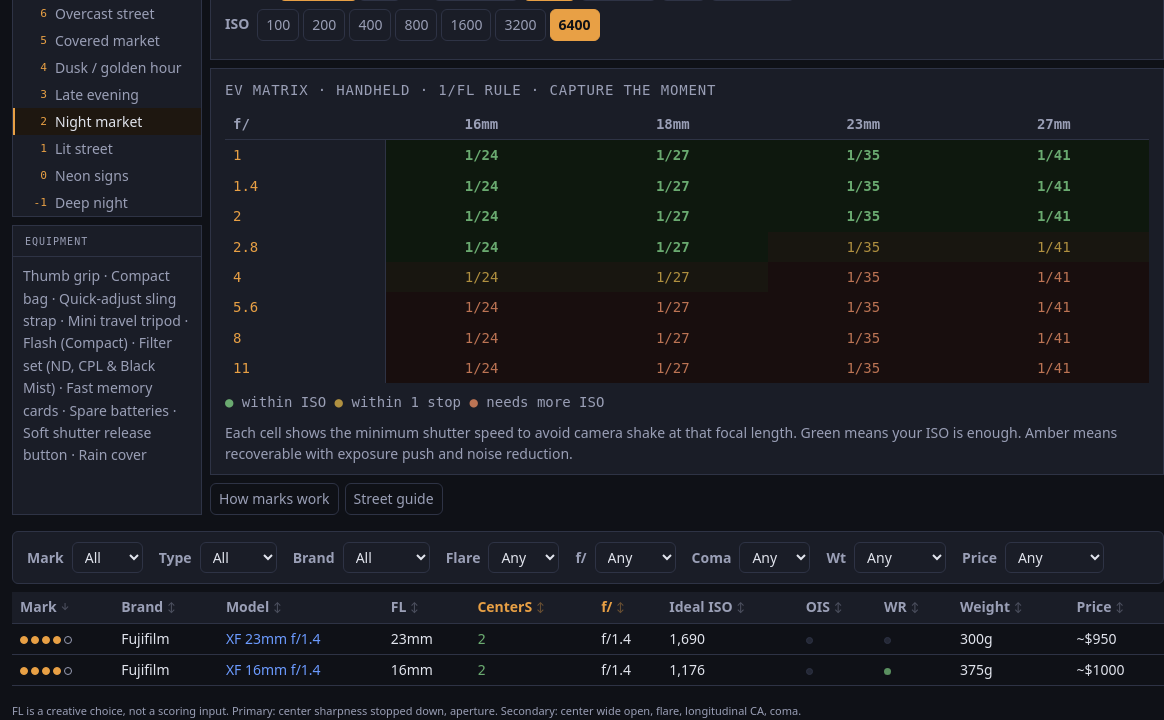
Test: GenreGuide › filters by price threshold
(page scrolled)
Expected: the link "XF 23mm f/1.4" is shown, x1=226 y1=629 x2=321 y2=648
Select "≤ ~$500" in the dropdown named "Price". click: [1054, 558]
box: x1=1005 y1=542 x2=1104 y2=573
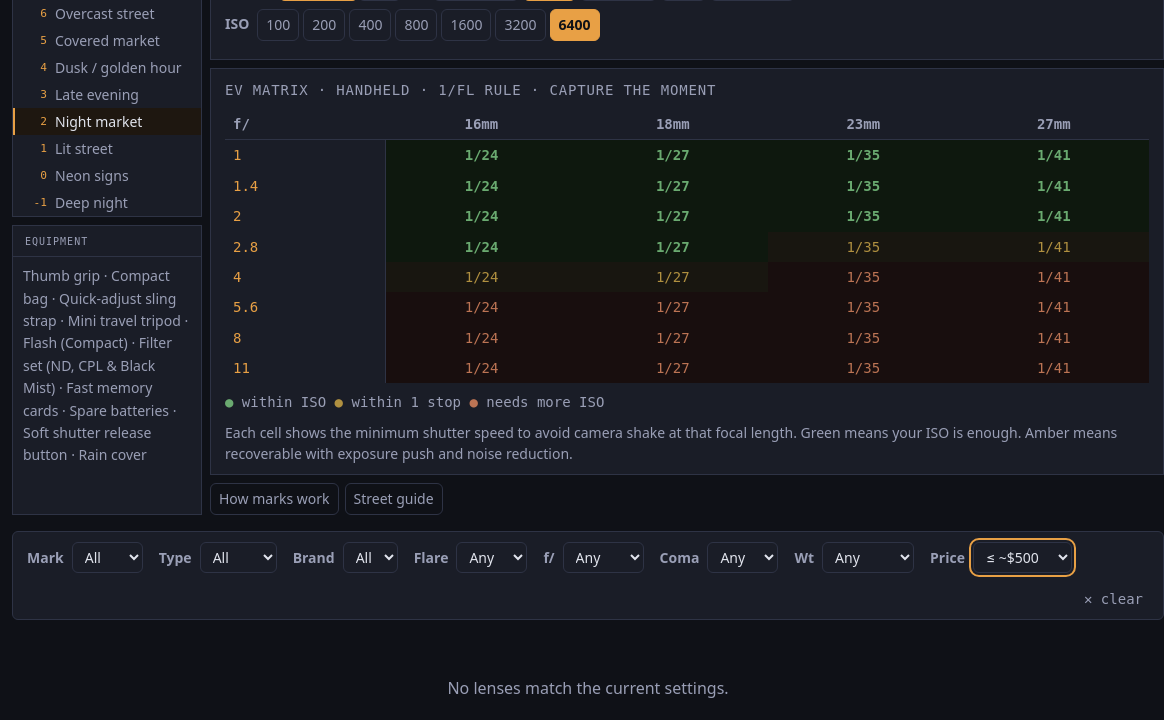
Result: the link "XF 23mm f/1.4" is gone
Result: the link "XF 16mm f/1.4" is gone
